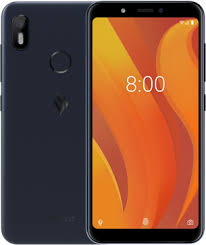vsmart: (86, 1, 204, 245), (1, 1, 91, 244)
